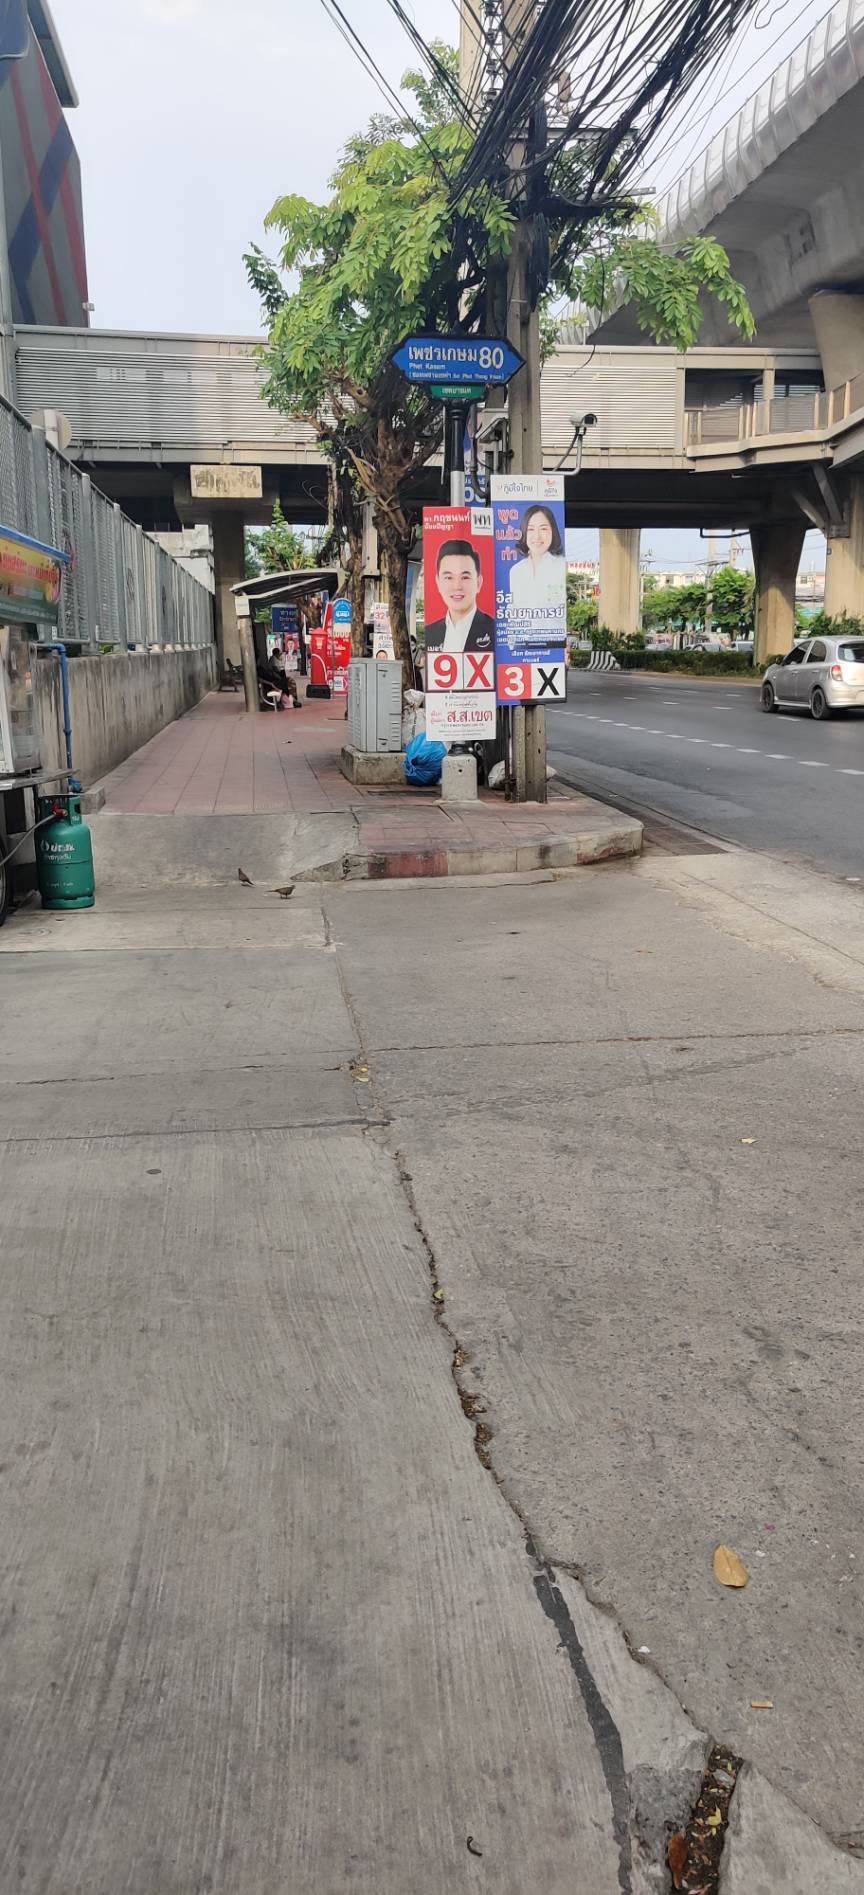Banner: (422, 499, 505, 742), (486, 477, 569, 703)
